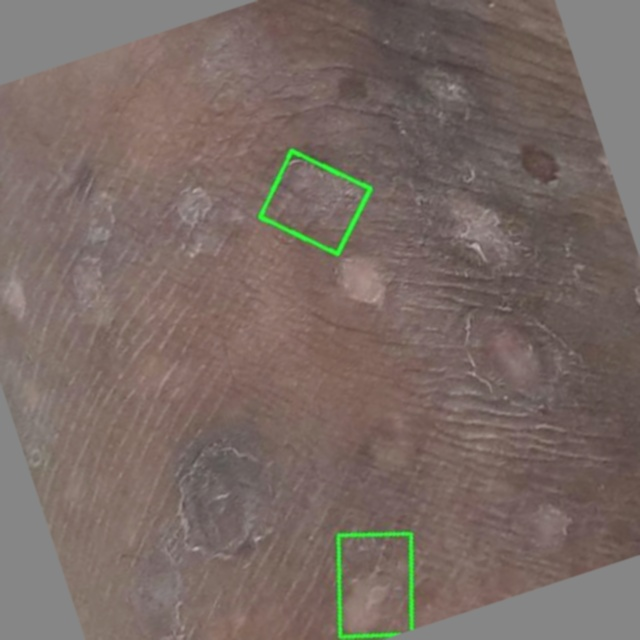Contact Dermatitis: (260, 149, 370, 253), (338, 533, 413, 636)
